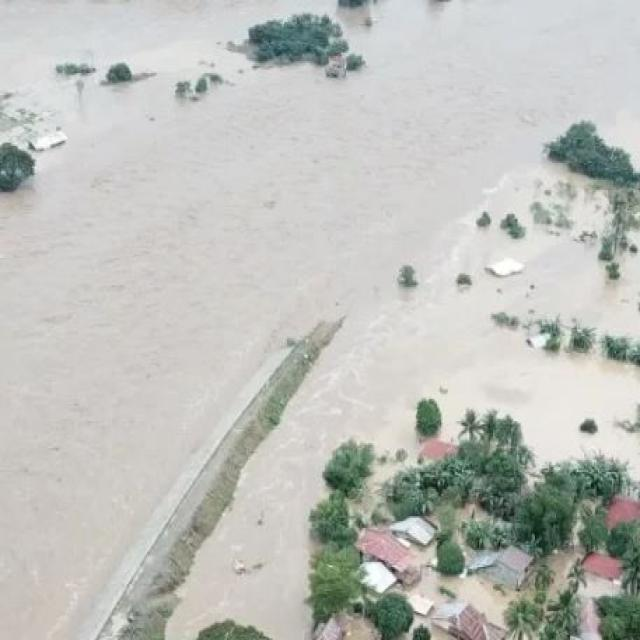flooded_areas: (182, 289, 636, 638), (1, 12, 112, 256)
